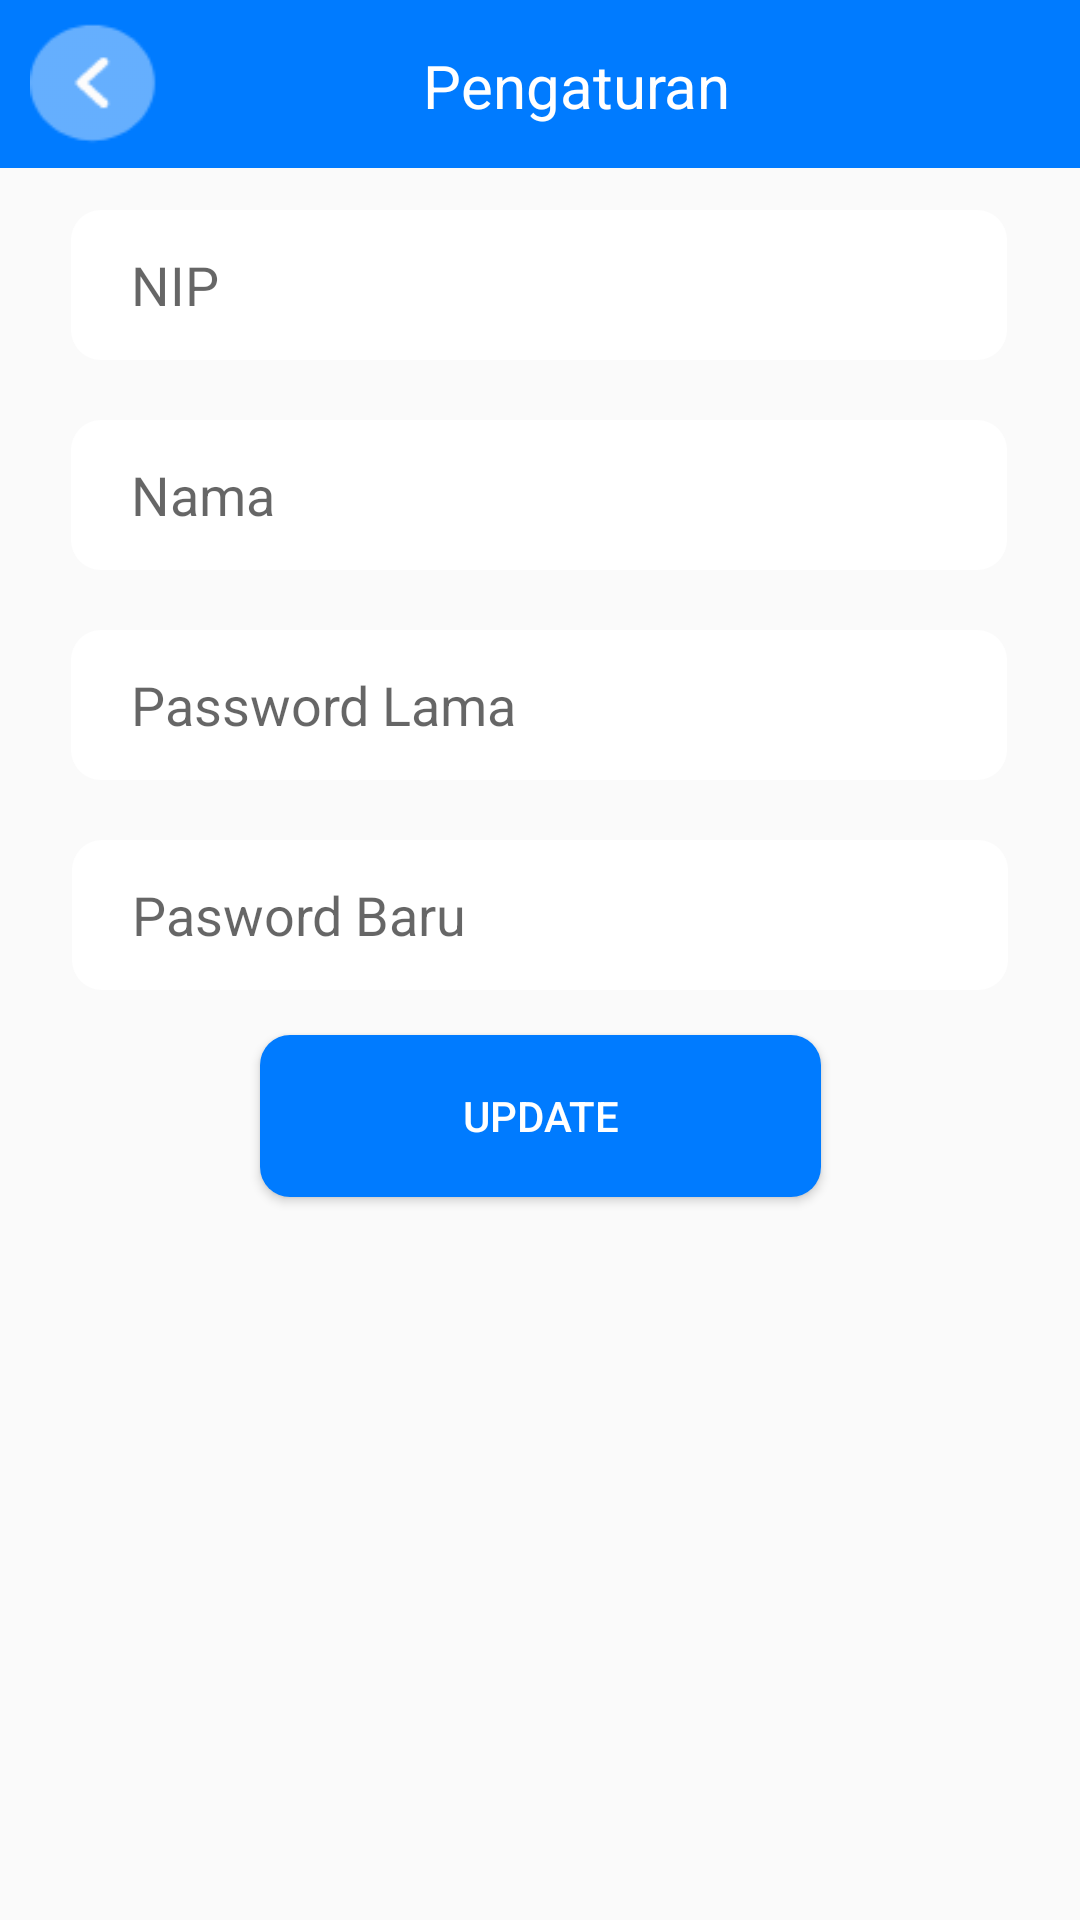

Point at icon controls on the screen. Image size 1080*1920, points as [x,y].
back: [93,83]
